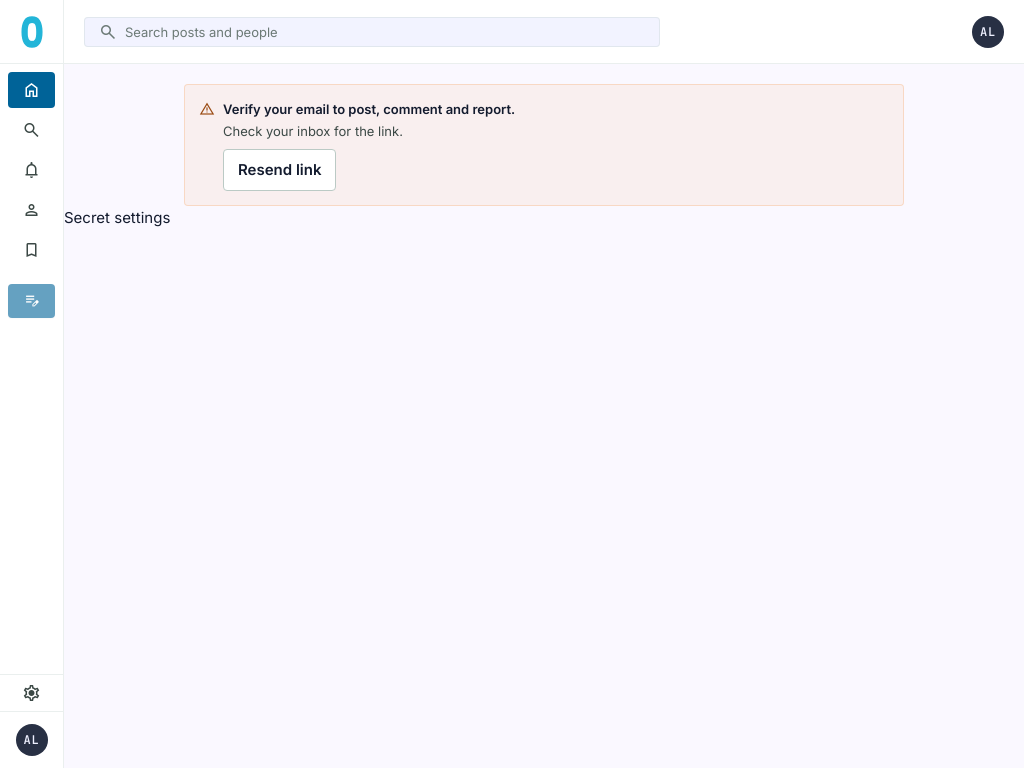
(app) layout, unverified email › explains why New post does nothing, with a toast
What coordinates should you click on to do the following:
click the button named "New post"
I would click on:
 (32, 301)
Its box is left=8, top=284, right=55, bottom=318.
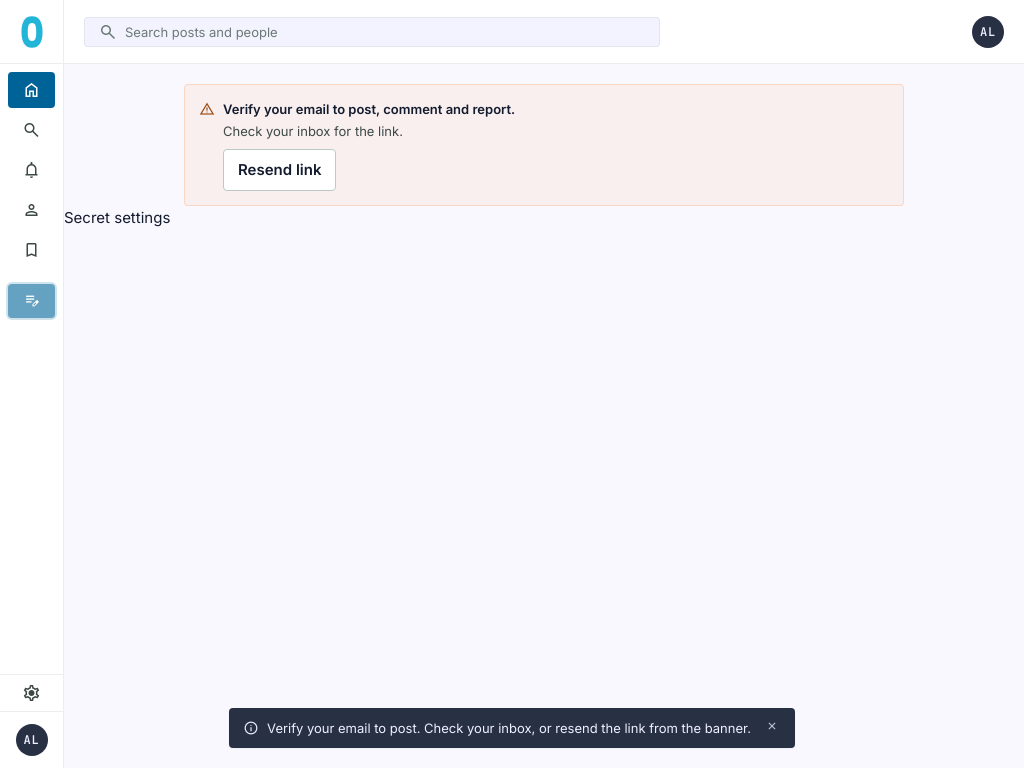
expect the text "Verify your email to post. Check your inbox, or resend the link from the banner." is shown: met, box left=267, top=718, right=751, bottom=738
